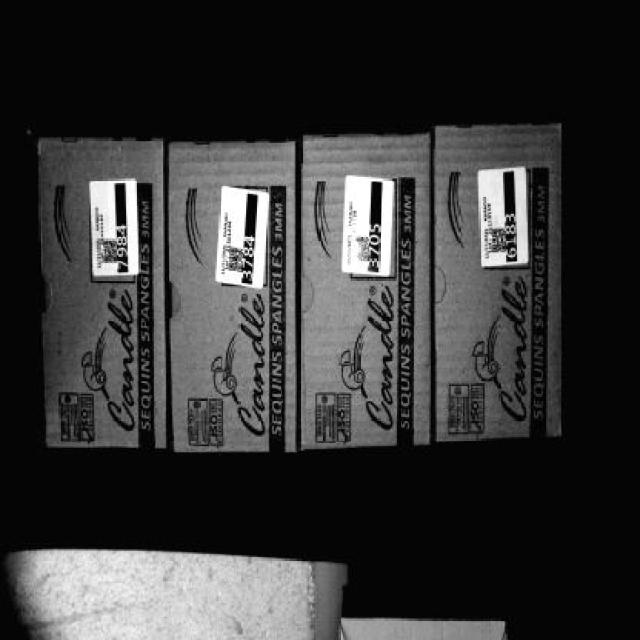cardboxes: (171, 138, 295, 456), (302, 135, 433, 434), (42, 132, 166, 446), (436, 131, 559, 440), (436, 130, 562, 408), (561, 406, 562, 426)
